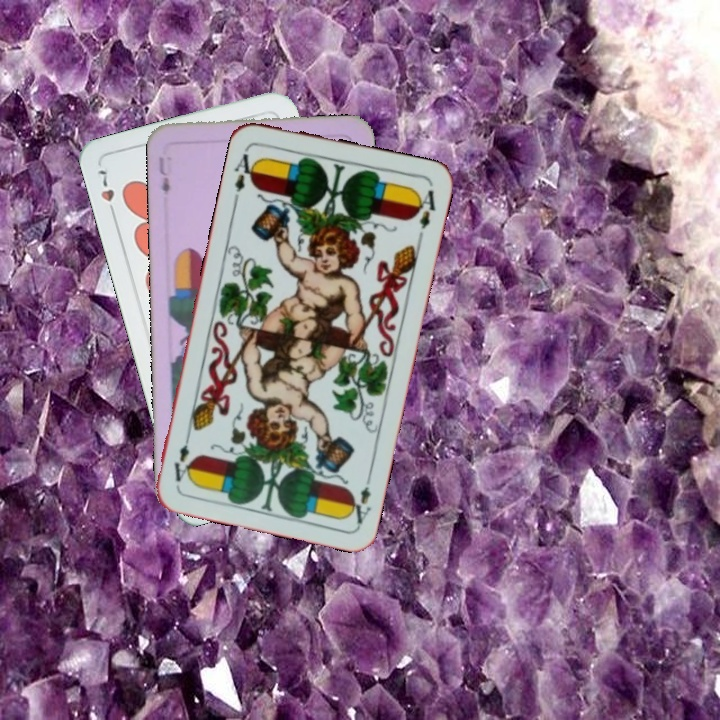EA: (344, 469, 375, 527), (230, 144, 260, 195)
EU: (155, 152, 172, 197)
H7: (93, 164, 119, 221)
